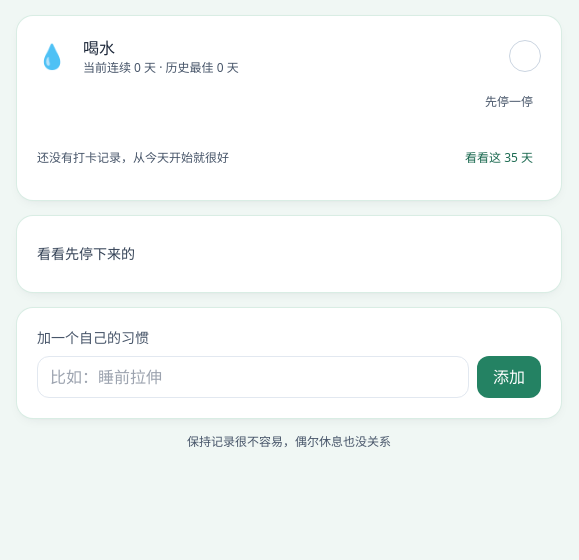
Test: GAP-11 · 前端分区（主列表 vs 先停下来的） › 已停用的习惯收在「先停下来的」区域（默认收起，展开后可见且可重新开始）
The image size is (579, 560).
Expected: the button with test id "habit-check-1" is shown, [37,36,541,76]
Expected: the text "这些先放着了，想继续的时候点「重新开始」就好" is not shown
What coordinates should you click on to do the following:
click the button with test id "habit-stopped-toggle"
I would click on:
 (86, 254)
Its box is [33,232,139,276].
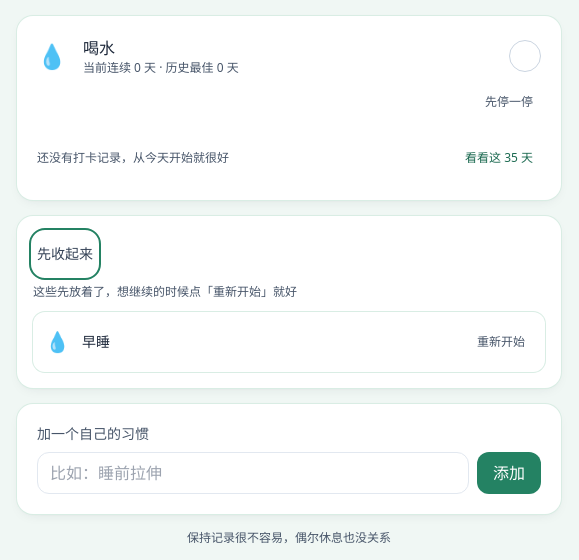
Now the text "早睡" is shown, box [82,332,110,351]
Now the text "这些先放着了，想继续的时候点「重新开始」就好" is shown, box [33,283,297,300]
Now the button with test id "habit-restart-2" is shown, box [469,320,533,364]
